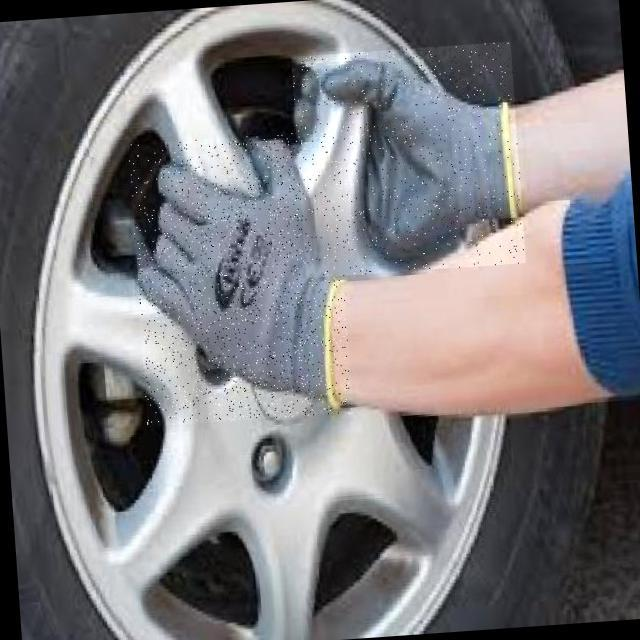Gloves: (128, 130, 353, 427), (291, 41, 526, 278)
